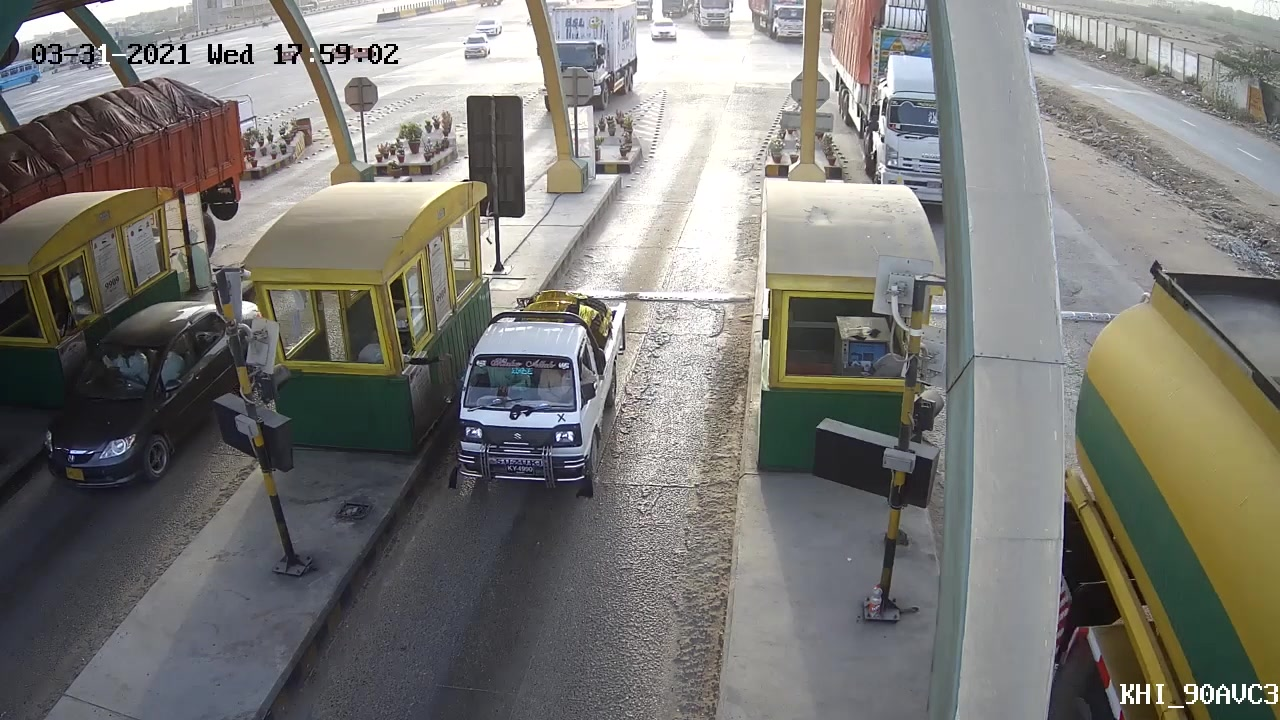F2: (440, 285, 630, 500)
